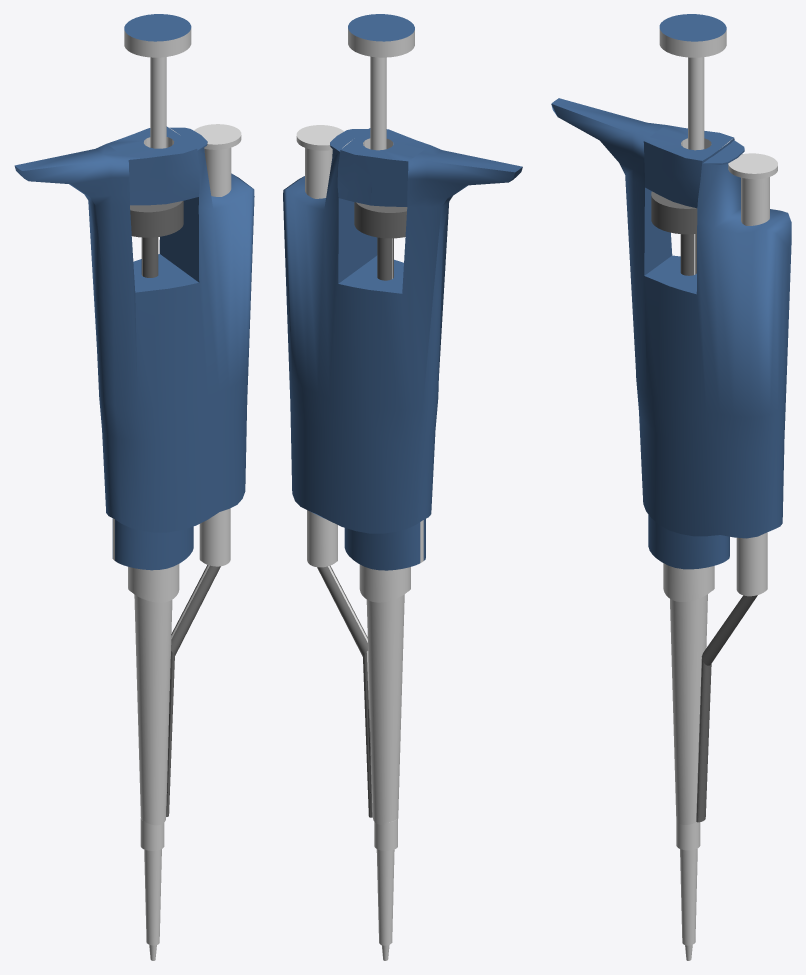
Rendered from Single-Channel-Pippette.fbx.
3 renders of one model, left to right at view 1: azimuth 30°, elevation 25°; view 2: azimuth 150°, elevation 25°; view 3: azimuth 330°, elevation 25°, orthographic.
Parts seen in each view (by area): view 1: Single-Channel Pipette, PipetteTip; view 2: Single-Channel Pipette, PipetteTip; view 3: Single-Channel Pipette, PipetteTip.
Part boxes in pixels (bbox=[...]): Single-Channel Pipette: bbox=[14, 14, 254, 850]; PipetteTip: bbox=[144, 849, 161, 960]; Single-Channel Pipette: bbox=[283, 14, 522, 850]; PipetteTip: bbox=[376, 849, 394, 960]; Single-Channel Pipette: bbox=[551, 14, 791, 850]; PipetteTip: bbox=[680, 848, 697, 960].
Size of the model in its own units: 24.02 by 91.65 by 7.03.
